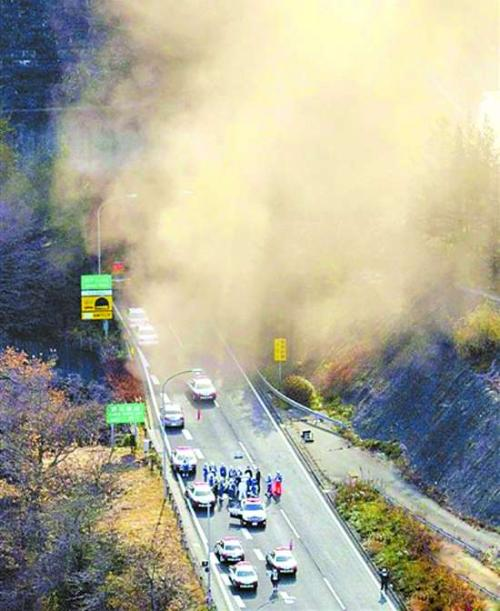smoke: (122, 17, 447, 315)
